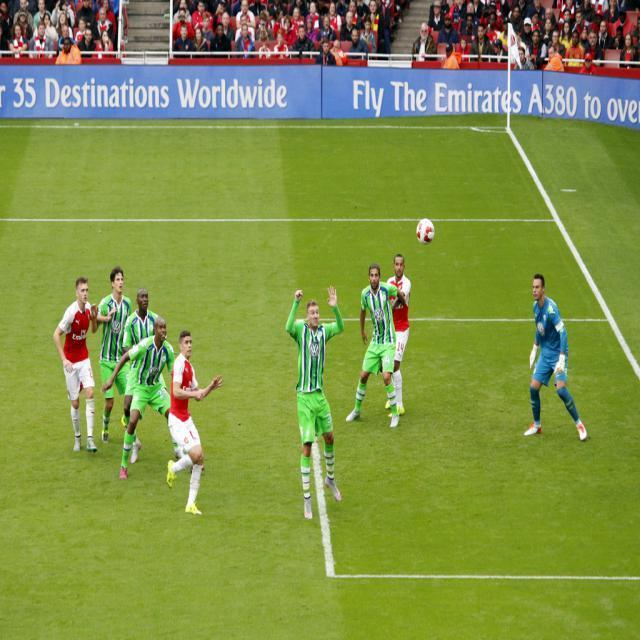football: (405, 210, 445, 246)
